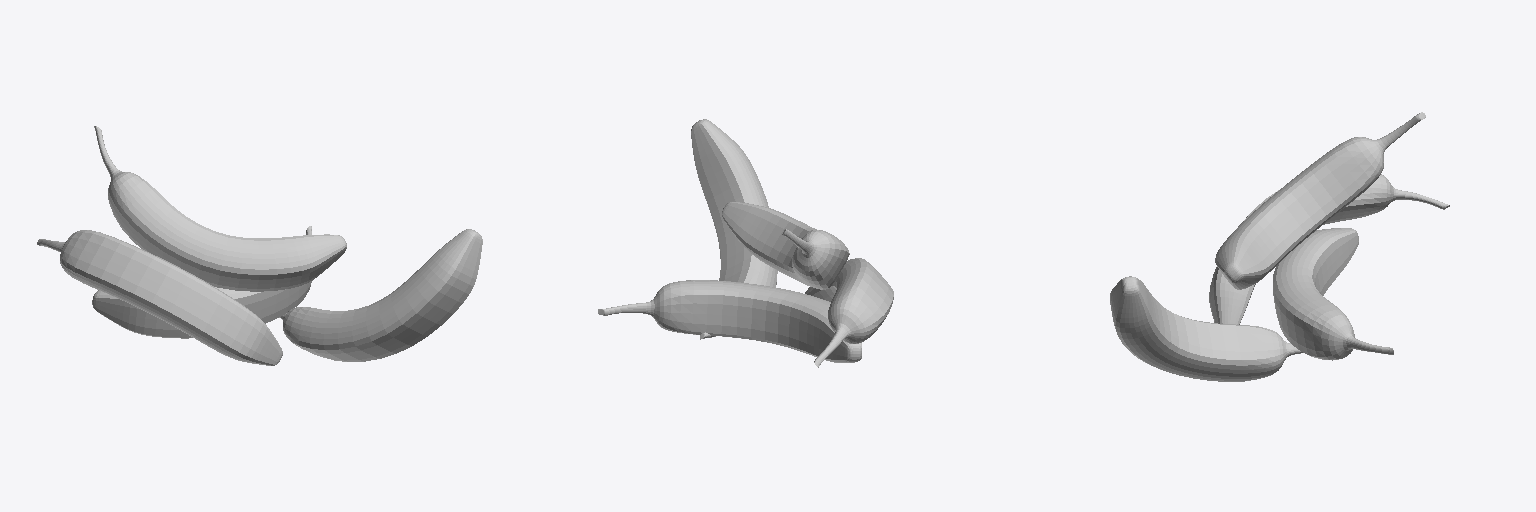
Rendered from bananas.obj.
3 views of the same model, side by side, from view 1: azimuth 30°, elevation 25°; view 2: azimuth 150°, elevation 25°; view 3: azimuth 270°, elevation 25° (orthographic).
Parts seen in each view (by area): view 1: banana.001_Cube.001, banana.004_Cube.004, banana_Cube, banana.003_Cube.003; view 2: banana.003_Cube.003, banana_Cube, banana.001_Cube.001, banana.004_Cube.004; view 3: banana.001_Cube.001, banana_Cube, banana.003_Cube.003, banana.004_Cube.004.
Part boxes in pixels (bbox=[...]): banana.001_Cube.001: bbox=[94, 126, 346, 291]; banana.004_Cube.004: bbox=[37, 230, 282, 365]; banana_Cube: bbox=[279, 229, 482, 361]; banana.003_Cube.003: bbox=[92, 226, 312, 338]; banana.003_Cube.003: bbox=[598, 280, 861, 362]; banana_Cube: bbox=[691, 119, 777, 339]; banana.001_Cube.001: bbox=[722, 202, 849, 289]; banana.004_Cube.004: bbox=[805, 258, 893, 367]; banana.001_Cube.001: bbox=[1215, 112, 1425, 289]; banana_Cube: bbox=[1110, 276, 1302, 381]; banana.003_Cube.003: bbox=[1273, 228, 1393, 360]; banana.004_Cube.004: bbox=[1209, 174, 1449, 324].
Bounding box in the file's own units: 1.67 × 1.07 × 1.64.